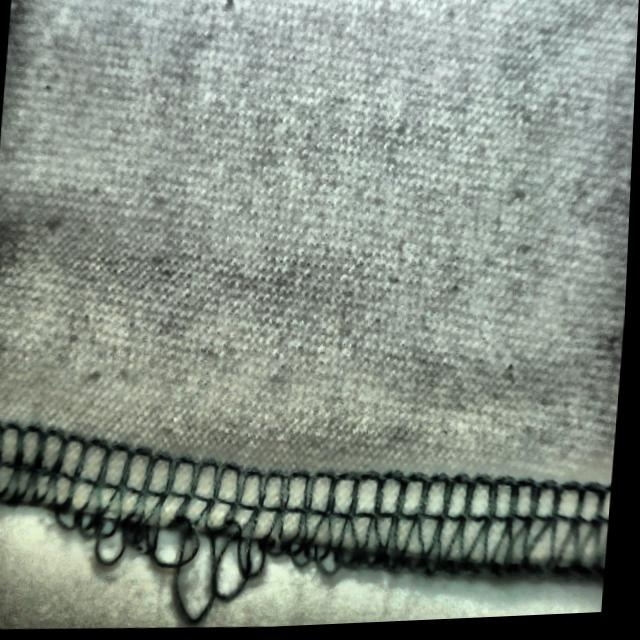Stitch: (49, 429, 368, 638)
